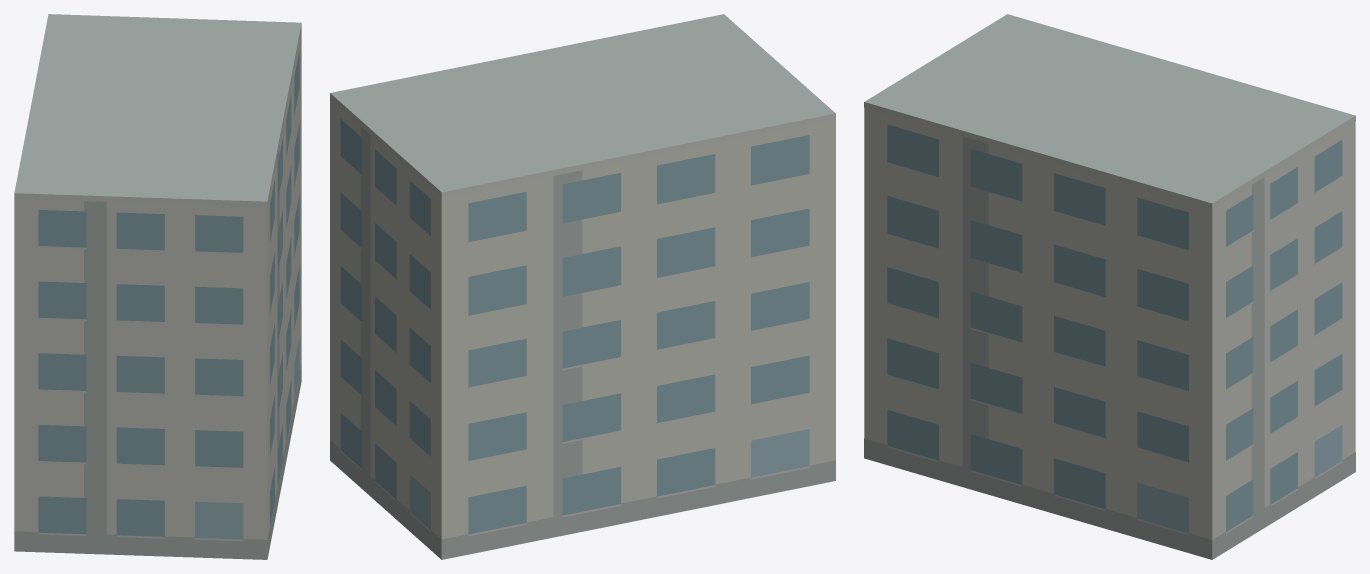
Rendered from residential-955907ba-62d0-4708-acd0-866cf46d1646.glb.
The picture shows the model from 3 angles, left to right: view 1: azimuth 30°, elevation 25°; view 2: azimuth 150°, elevation 25°; view 3: azimuth 270°, elevation 25°; orthographic projection. The views are drawn at different scales.
Parts seen in each view (by area): view 1: residential-955907ba-62d0-4708-acd0-866cf46d1646.tmp; view 2: residential-955907ba-62d0-4708-acd0-866cf46d1646.tmp; view 3: residential-955907ba-62d0-4708-acd0-866cf46d1646.tmp.
Boxes of the visible parts, x1=… form: residential-955907ba-62d0-4708-acd0-866cf46d1646.tmp: x1=14, y1=14, x2=301, y2=559; residential-955907ba-62d0-4708-acd0-866cf46d1646.tmp: x1=330, y1=14, x2=835, y2=559; residential-955907ba-62d0-4708-acd0-866cf46d1646.tmp: x1=864, y1=14, x2=1355, y2=559.
Bounding box in the file's own units: 17.39 × 15.25 × 19.07.
